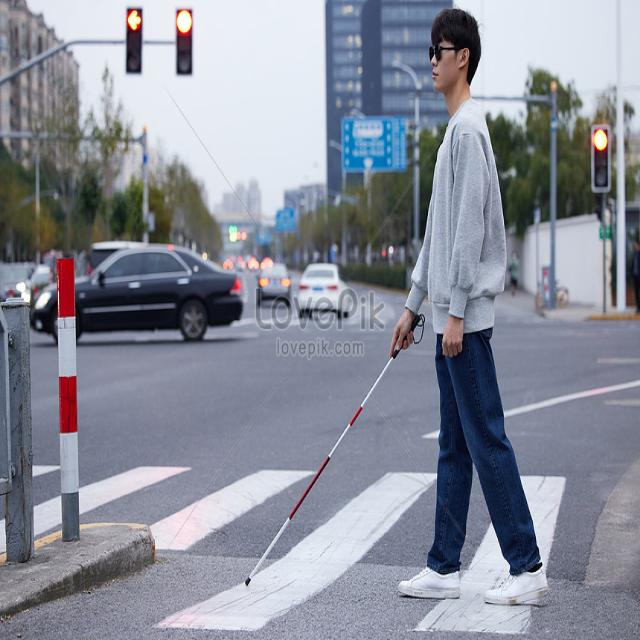Passenger Car: (76, 241, 245, 341)
Pedestrians: (384, 8, 549, 608)
